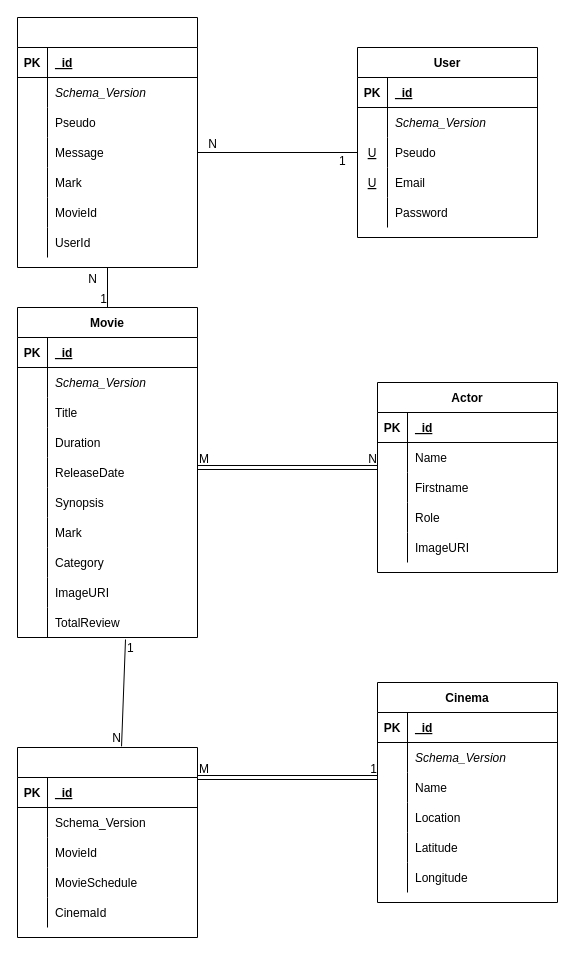
The diagram is 575 pixels wide and 955 high, and some of its shapes have lost their labels. The box of each missing label's shape, as (x1, y1, x2, y2) in pixels:
MovieSession: (16, 746, 198, 938)
Review: (16, 16, 198, 268)
